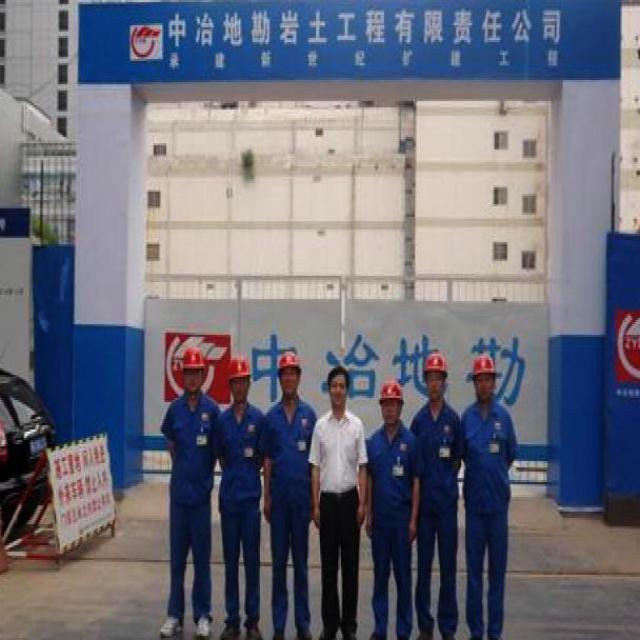helmet: (368, 368, 410, 428), (462, 343, 502, 406), (422, 348, 453, 408), (176, 339, 208, 396), (226, 352, 255, 408), (275, 345, 306, 396)
